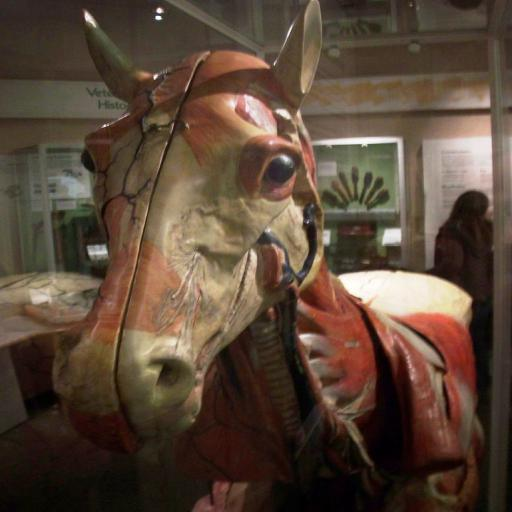horse: (54, 0, 471, 512)
